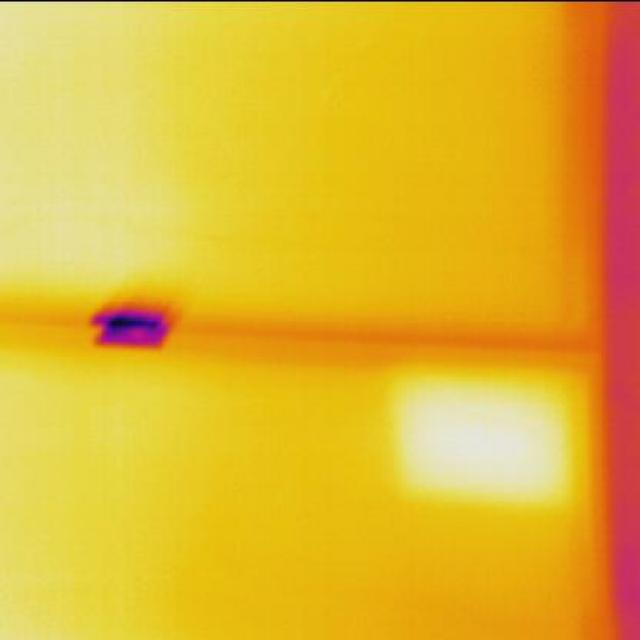hotspot: (377, 367, 580, 515)
